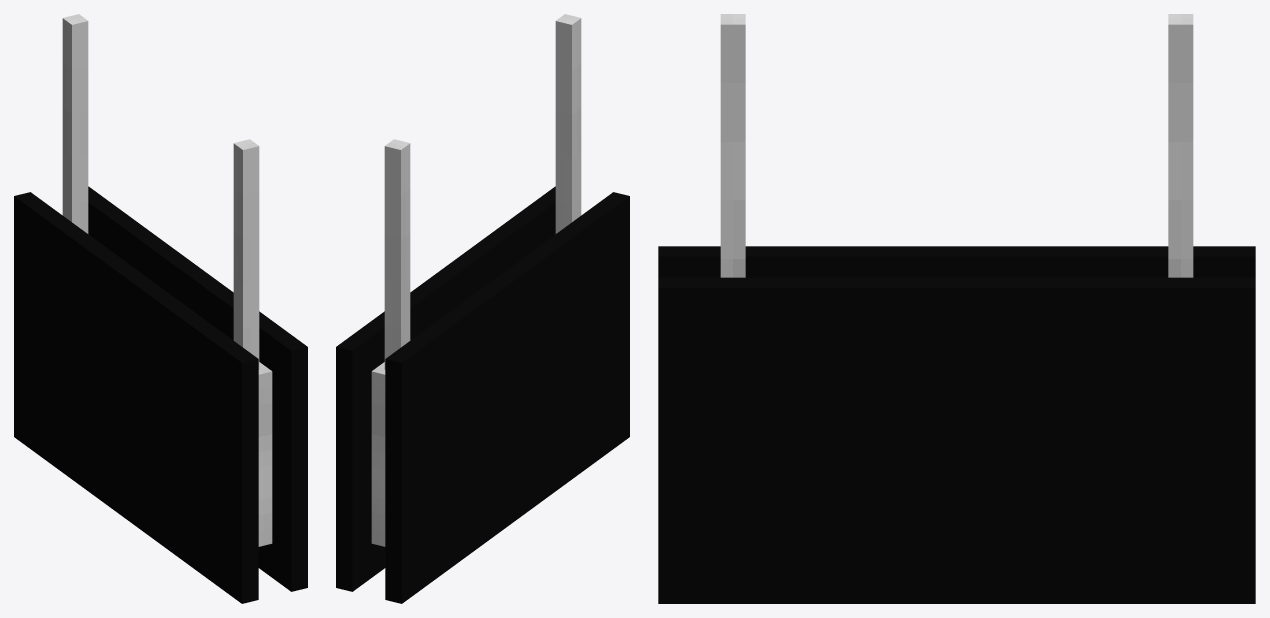
The model's file is jcm_1.obj.
The picture shows the model from 3 angles, left to right: view 1: azimuth 30°, elevation 25°; view 2: azimuth 150°, elevation 25°; view 3: azimuth 270°, elevation 25°; orthographic projection. The views are drawn at different scales.
Parts seen in each view (by area): view 1: Main; view 2: Main; view 3: Main.
Boxes of the visible parts, x1=… form: Main: x1=14, y1=14, x2=307, y2=603; Main: x1=336, y1=14, x2=629, y2=603; Main: x1=658, y1=14, x2=1255, y2=603.
Bounding box in the file's own units: 0.25 × 1.56 × 1.5.
2 materials, 2 textured.
